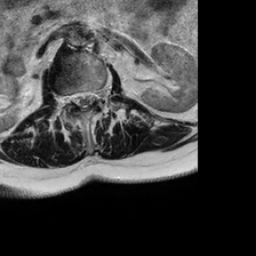CCS_normal: (80, 83, 89, 119)
LFS_normal: (96, 80, 104, 109)
LLS_normal: (89, 82, 97, 114)
RFS_normal: (62, 84, 70, 112)
RLS_normal: (70, 82, 80, 114)
